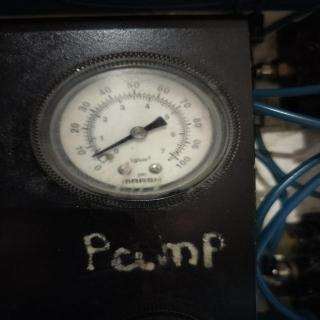gauge: (0, 24, 252, 215), (91, 146, 117, 170), (166, 148, 186, 168), (129, 125, 147, 141), (89, 151, 99, 161)
